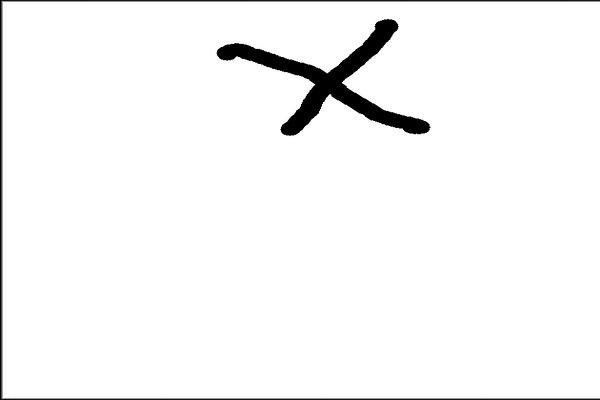X: (206, 12, 459, 155)
